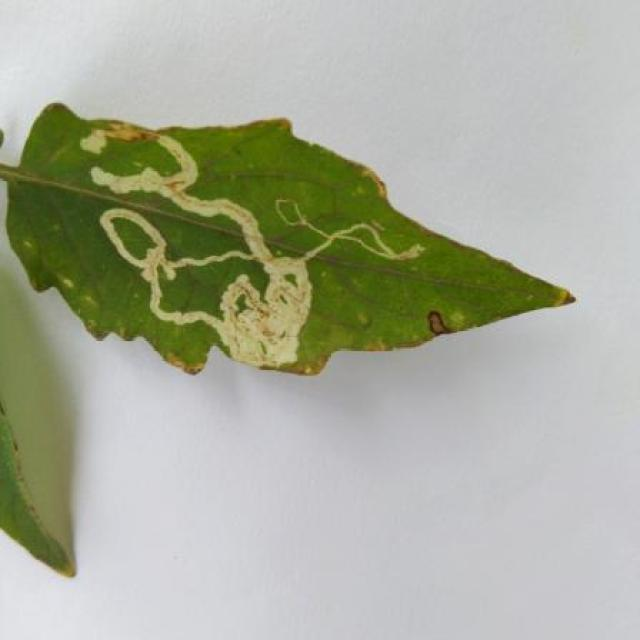Leaf Miner: (0, 98, 583, 382)
